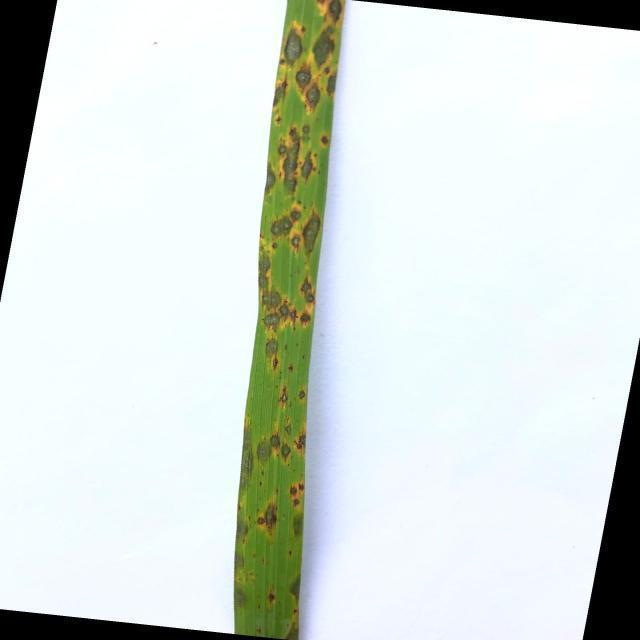Leaf_Blast: (258, 238, 284, 315), (278, 127, 301, 196), (307, 26, 338, 70), (302, 206, 324, 261), (253, 500, 283, 536), (279, 24, 303, 66), (292, 56, 313, 100), (261, 336, 281, 371), (269, 213, 294, 239), (300, 150, 318, 185), (264, 160, 279, 199), (304, 82, 321, 116), (321, 0, 345, 23), (261, 310, 283, 334), (255, 438, 273, 467), (273, 79, 291, 106), (275, 298, 290, 327), (321, 72, 337, 99), (294, 426, 307, 453), (300, 275, 314, 298), (277, 443, 293, 463), (287, 205, 304, 223), (299, 122, 314, 142), (268, 429, 280, 452), (286, 306, 299, 327), (289, 233, 304, 251), (278, 385, 289, 407), (298, 312, 314, 327), (317, 133, 330, 150), (266, 589, 279, 605), (287, 483, 299, 497), (297, 386, 308, 401), (291, 497, 302, 510), (284, 422, 294, 435), (305, 292, 315, 305), (287, 607, 301, 616), (294, 481, 305, 492), (274, 113, 282, 128), (270, 242, 281, 251)
